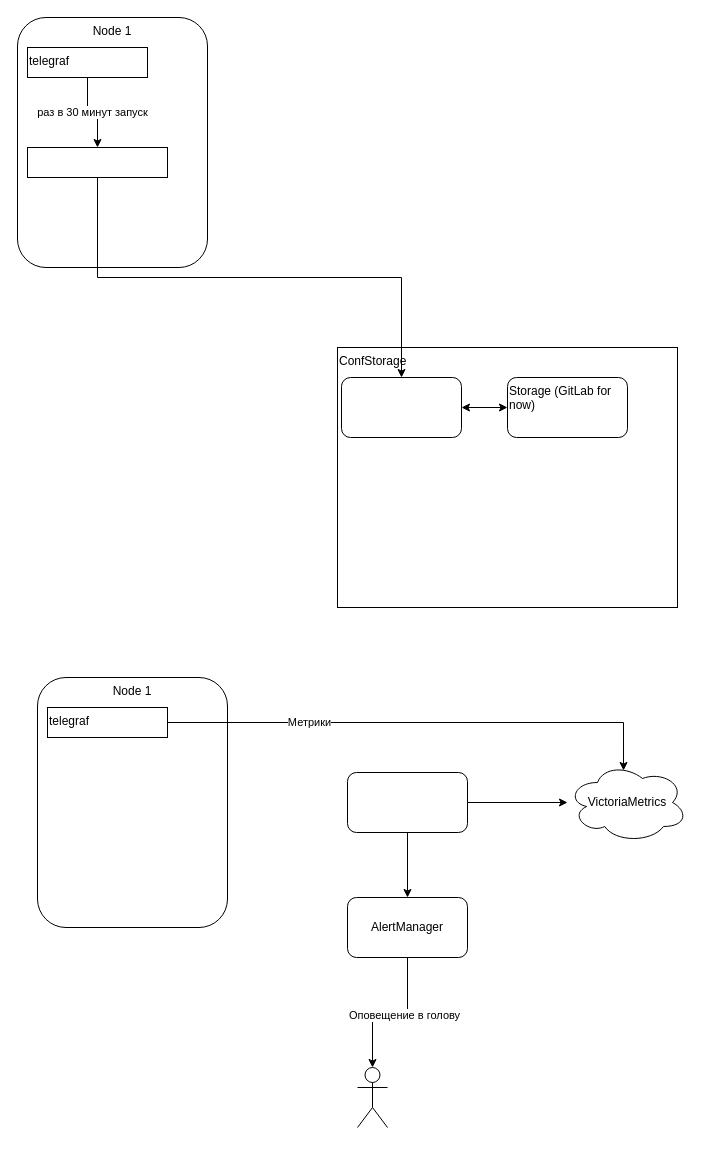
This 705x1166 diagram has some shape labels left out. The box of each missing label's shape, as (x1, y1, x2, y2) in pixels:
Actor: (356, 1066, 388, 1128)
ConfigGenerator: (340, 376, 462, 438)
telegraf_observ_helper: (26, 146, 168, 178)
Vmalert: (346, 772, 468, 832)
